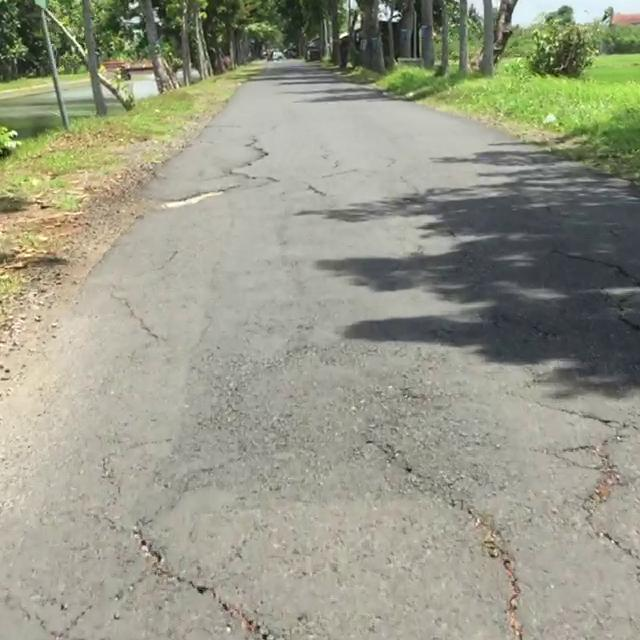retak_memanjang: (382, 428, 552, 640), (131, 524, 328, 640), (554, 418, 640, 640), (541, 228, 640, 397), (109, 279, 161, 344)
